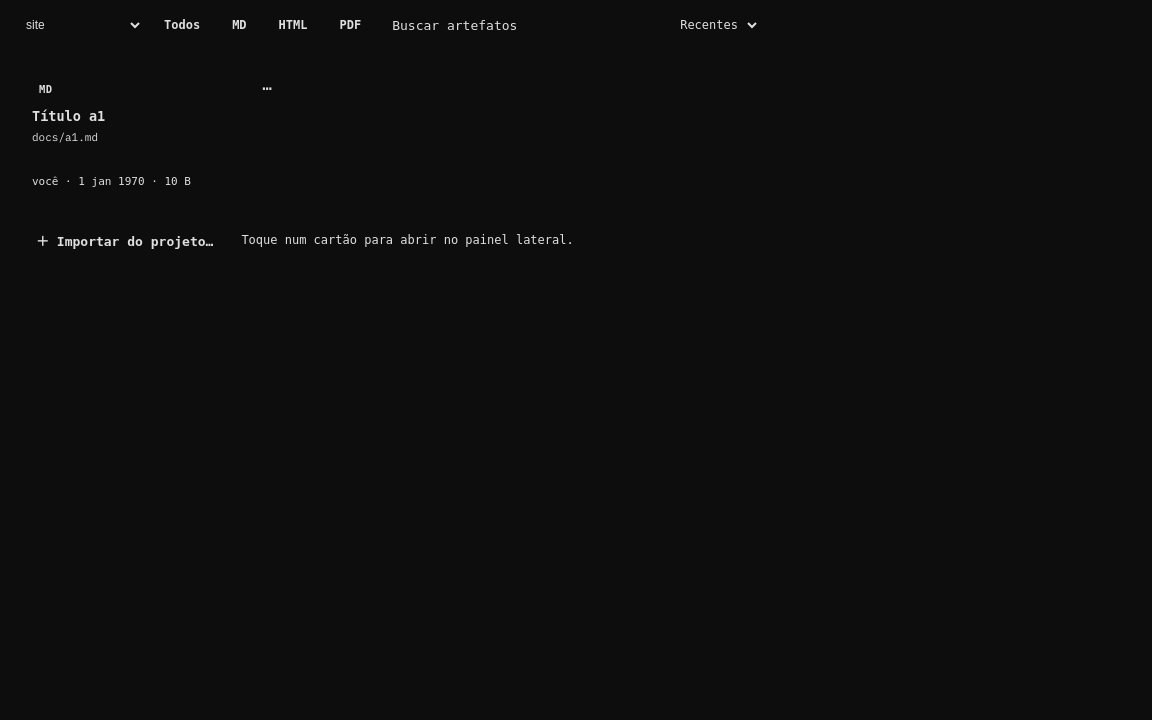
Test: Importar do projeto › empty window with older files shows the message and the search button (state 3)
The image size is (1152, 720).
Click the button "＋ Importar do projeto…" at (125, 240), box [20, 220, 229, 260]
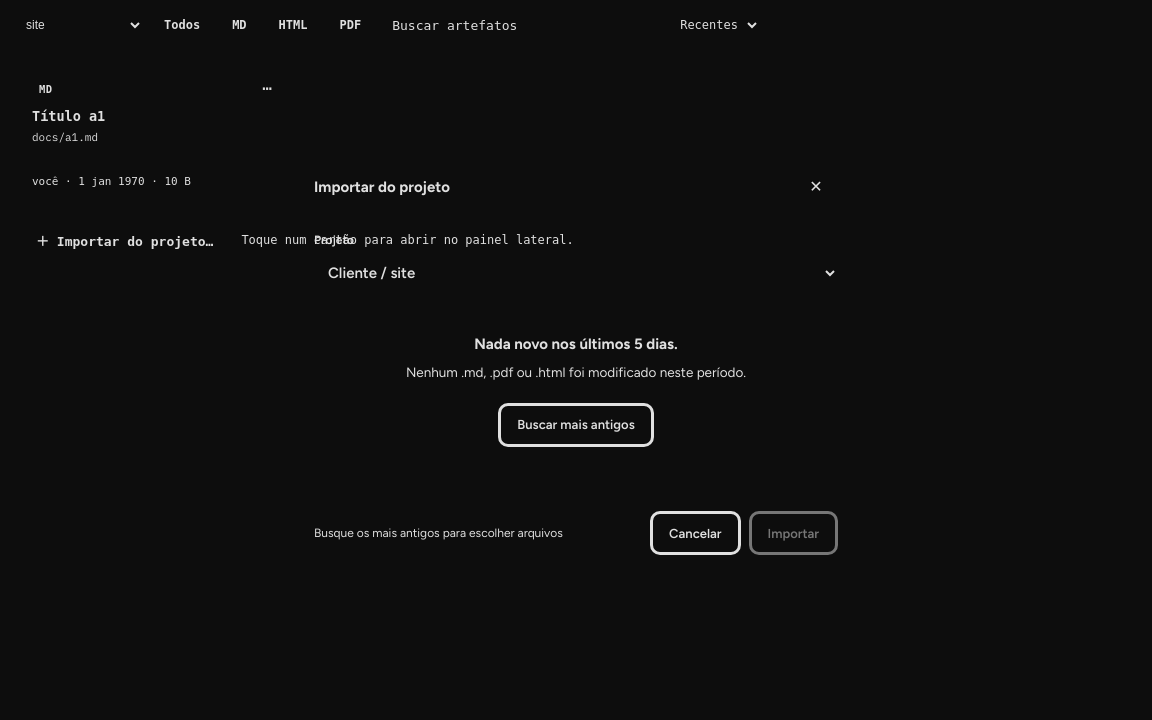
Check: the text "Nada novo nos últimos 5 dias." is shown, box [474, 335, 678, 353]
Check: the button with test id "import-load-older" reads "Buscar mais antigos"
Check: the text with test id "import-footer-hint" reads "Busque os mais antigos para escolher arquivos", box [314, 526, 563, 540]
Click the button with test id "import-load-older" at (576, 425), box [498, 403, 654, 447]
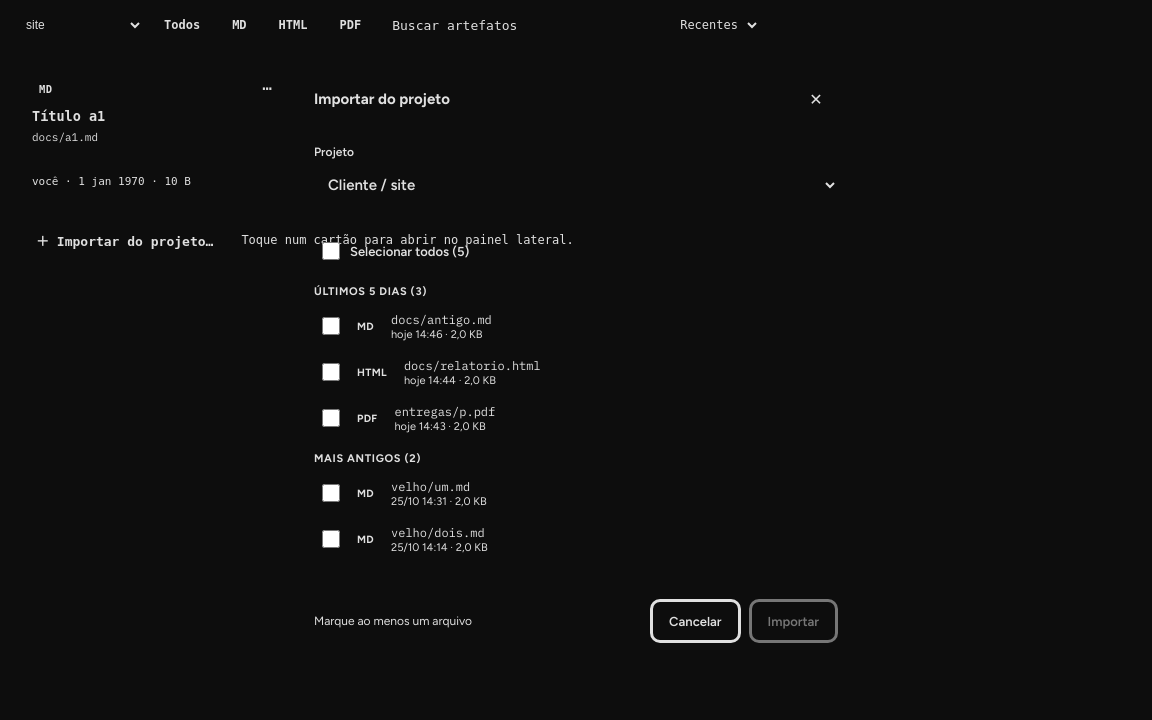
Check: the element with test id "import-group-older" is shown, box [314, 452, 488, 554]
Check: the heading "Mais antigos (2)" is shown, box [314, 452, 421, 465]
